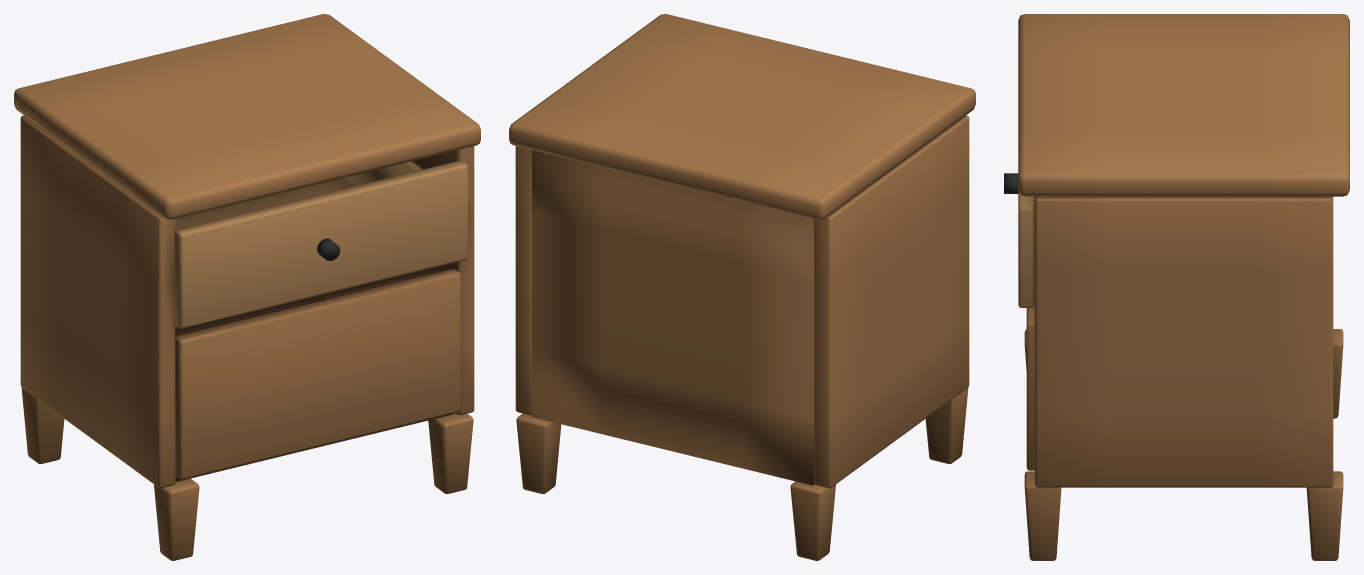
File: chevet.glb
3 renders of one model, left to right at view 1: azimuth 30°, elevation 25°; view 2: azimuth 150°, elevation 25°; view 3: azimuth 270°, elevation 25°, orthographic. The views are drawn at different scales.
Visible parts, largest first — view 1: corps, tiroir_1; view 2: corps; view 3: corps, tiroir_1.
Part boxes in pixels (x1=…): corps: x1=14, y1=14, x2=480, y2=560; tiroir_1: x1=174, y1=160, x2=467, y2=328; corps: x1=509, y1=14, x2=975, y2=560; corps: x1=1018, y1=14, x2=1349, y2=560; tiroir_1: x1=1018, y1=191, x2=1034, y2=307.
Bounding box in the file's own units: 0.45 × 0.5 × 0.4.
